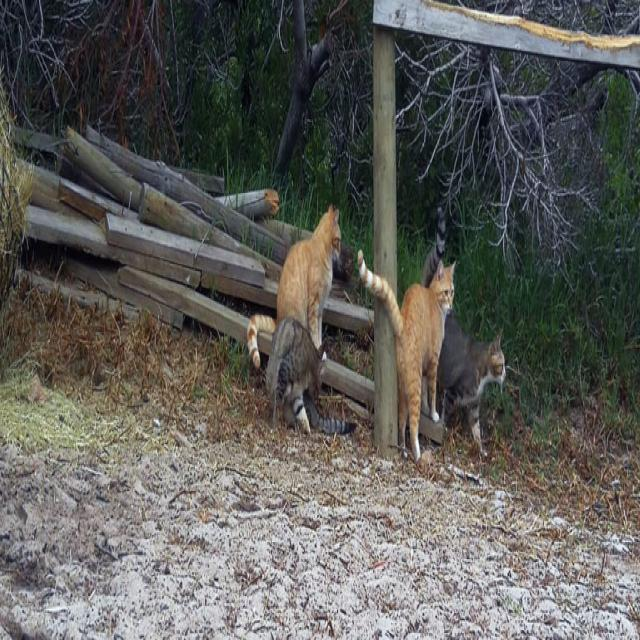cat: (359, 250, 454, 460), (248, 204, 341, 368), (266, 321, 355, 434), (438, 309, 506, 447), (421, 207, 445, 287)
